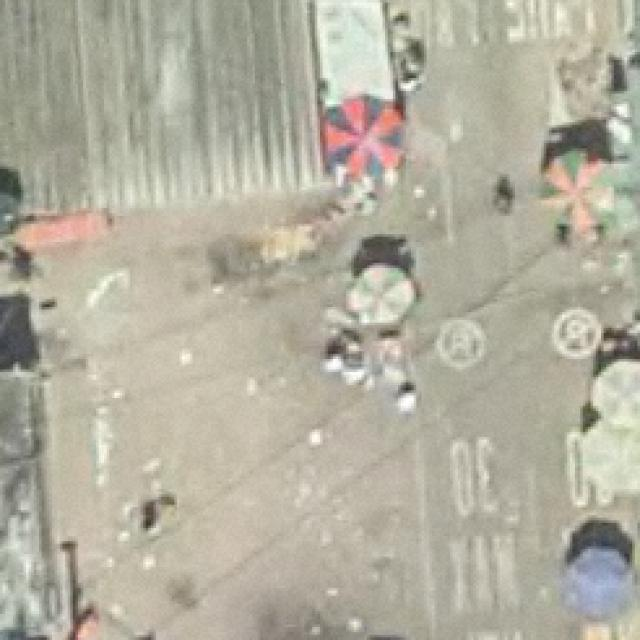vendedor_ambulante: (524, 147, 620, 232), (313, 98, 413, 178), (558, 527, 636, 627), (344, 251, 420, 330), (578, 408, 640, 499), (586, 348, 640, 426)
